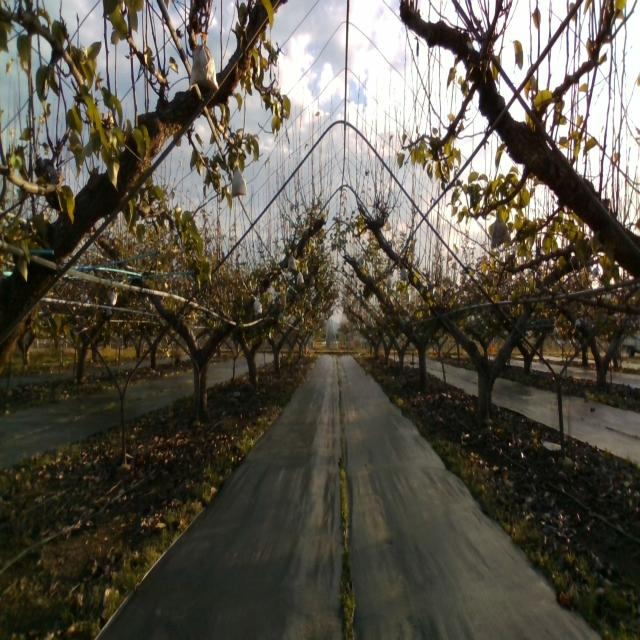pearbags: (188, 44, 220, 93), (490, 210, 512, 250), (230, 162, 247, 200), (287, 251, 297, 271)
